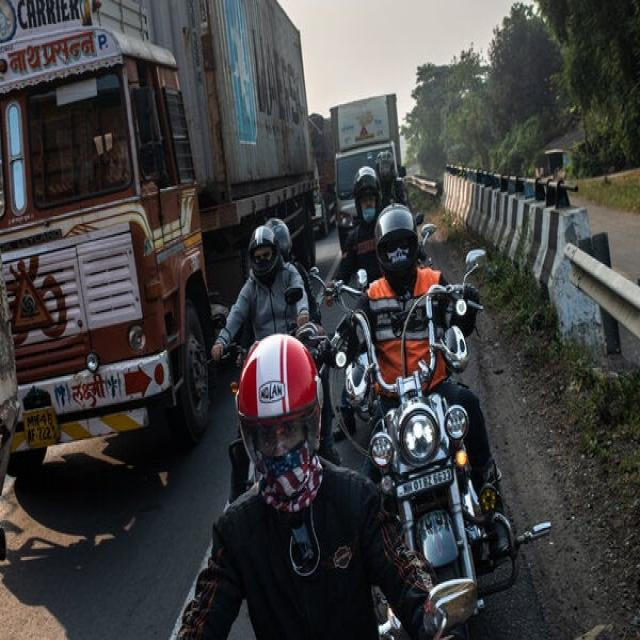motorcycle: (334, 204, 550, 595)
truck: (0, 1, 314, 472), (330, 94, 401, 247)
